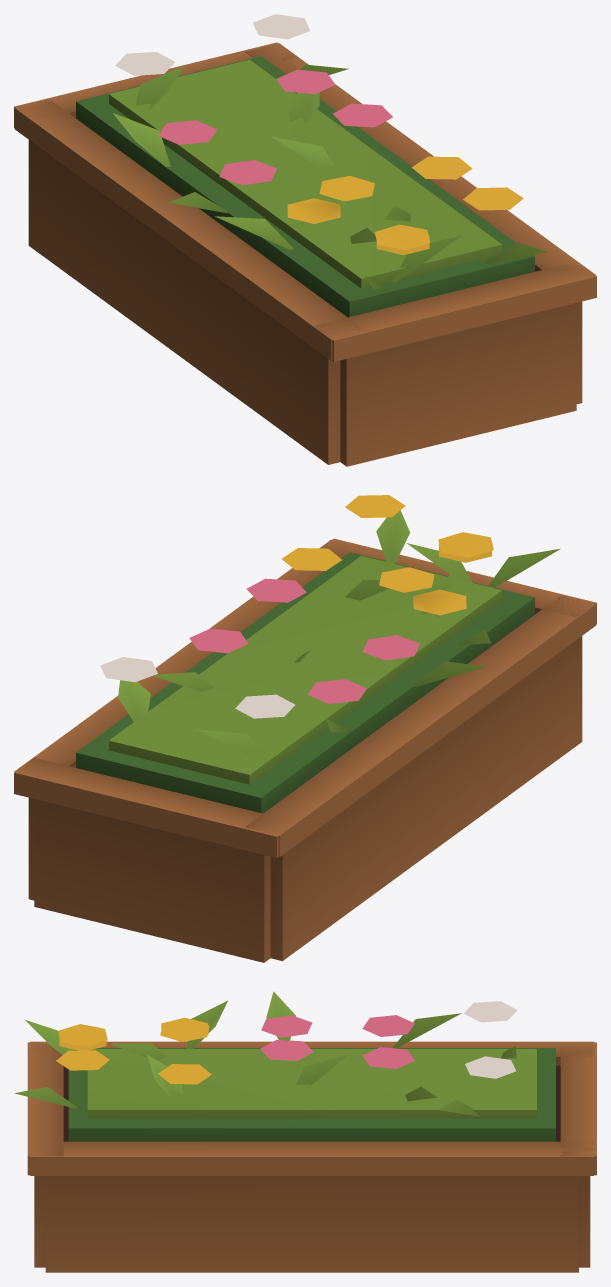
Rendered from prop.flower-bed.small.lod2.glb.
3 renders of one model, top to bottom at view 1: azimuth 30°, elevation 25°; view 2: azimuth 150°, elevation 25°; view 3: azimuth 270°, elevation 25°, orthographic. The views are drawn at different scales.
Size of the model in its own units: 0.7876 by 0.5386 by 1.53.
